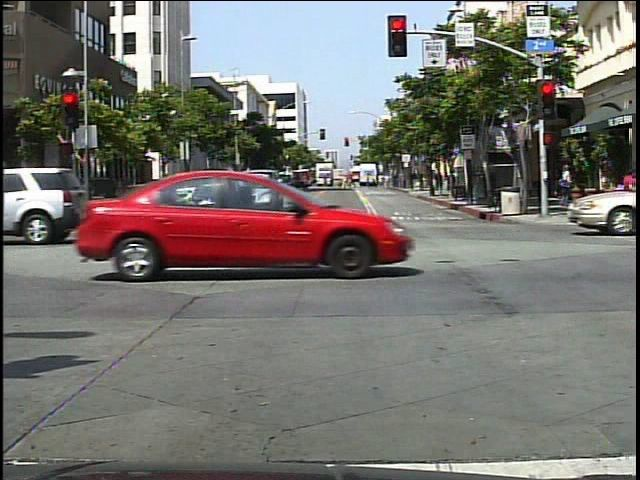person: (57, 171, 88, 235), (555, 162, 578, 213), (618, 166, 639, 195)
